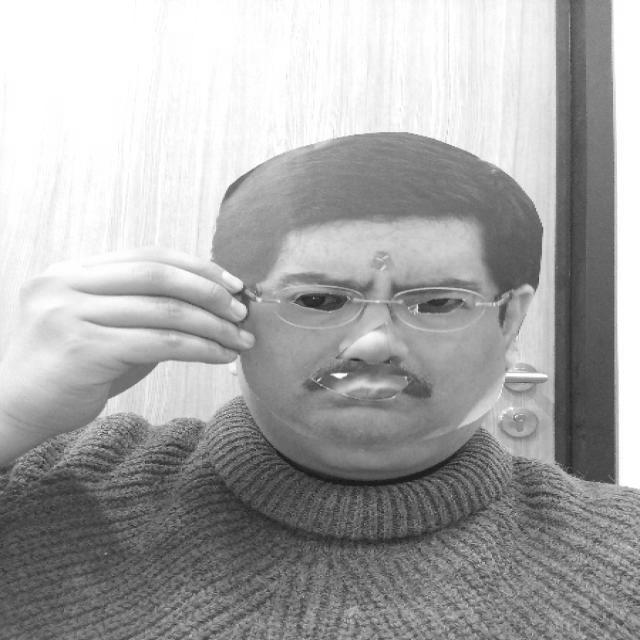fake: (214, 129, 548, 447)
